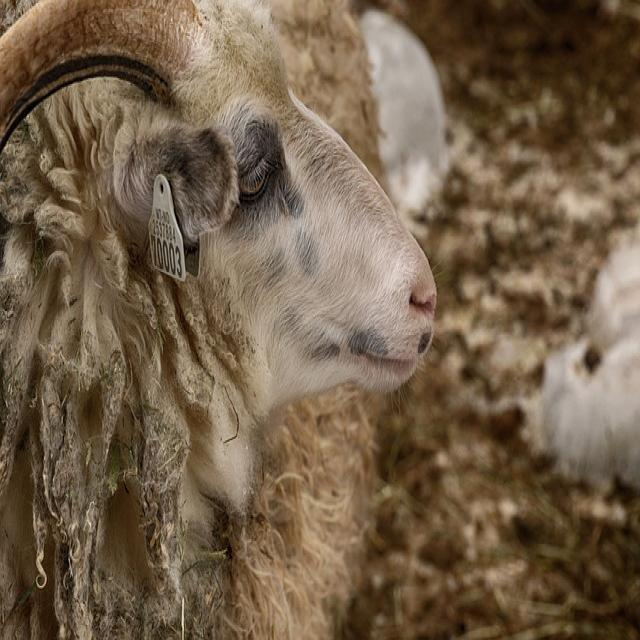sheep: (0, 0, 439, 638), (537, 231, 639, 490), (355, 6, 448, 222)
